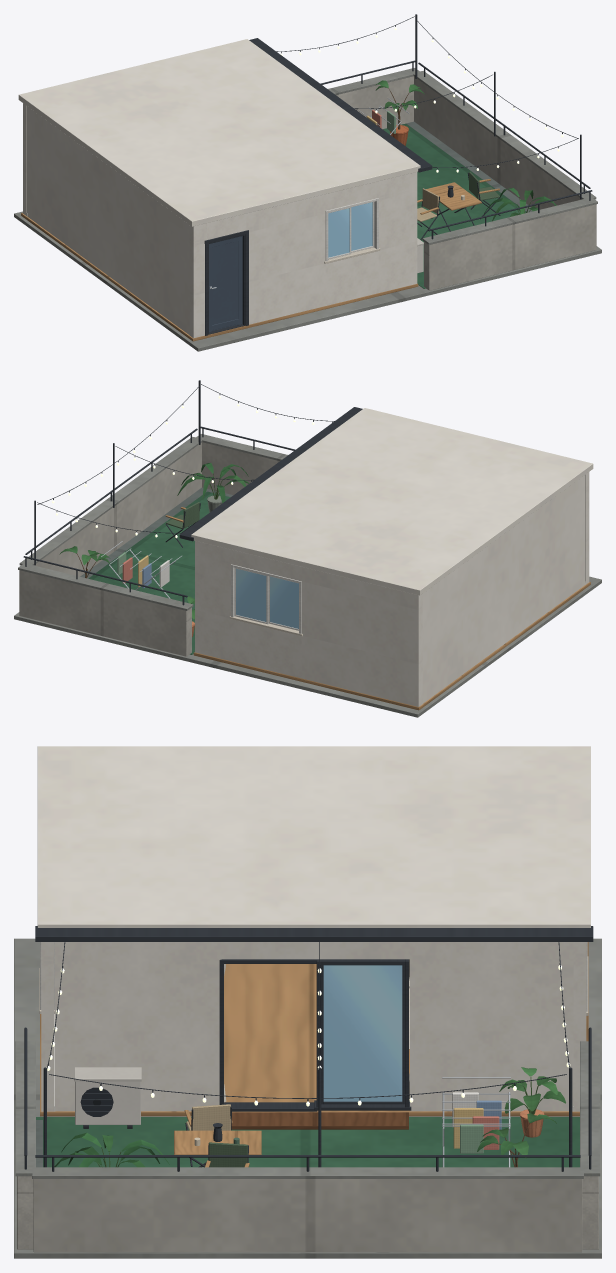
The model's file is mobile.glb.
3 views of the same model, one above another, from view 1: azimuth 30°, elevation 25°; view 2: azimuth 150°, elevation 25°; view 3: azimuth 270°, elevation 25° (orthographic). The views are drawn at different scales.
Parts seen in each view (by area): view 1: BG_Cutaway_Front, BG_Ceiling, BG_Shell_Fixed, BG_Furnishings; view 2: BG_Shell_Fixed, BG_Ceiling, BG_Cutaway_Front, BG_Furnishings; view 3: BG_Shell_Fixed, BG_Ceiling, BG_Furnishings, BG_Cutaway_Front.
Part boxes in pixels (left/top/right/bottom): BG_Cutaway_Front: left=27, top=106, right=597, bottom=338; BG_Ceiling: left=18, top=16, right=578, bottom=226; BG_Shell_Fixed: left=14, top=60, right=601, bottom=351; BG_Furnishings: left=358, top=14, right=581, bottom=273; BG_Shell_Fixed: left=14, top=428, right=601, bottom=717; BG_Ceiling: left=37, top=384, right=593, bottom=595; BG_Cutaway_Front: left=196, top=426, right=589, bottom=703; BG_Furnishings: left=34, top=380, right=249, bottom=636; BG_Shell_Fixed: left=14, top=938, right=601, bottom=1258; BG_Ceiling: left=35, top=746, right=593, bottom=1106; BG_Furnishings: left=43, top=959, right=572, bottom=1167; BG_Cutaway_Front: left=15, top=942, right=55, bottom=1249.
Bounding box in the file's own units: 9.5 × 2.8 × 7.5.
2 materials, 2 textured.
